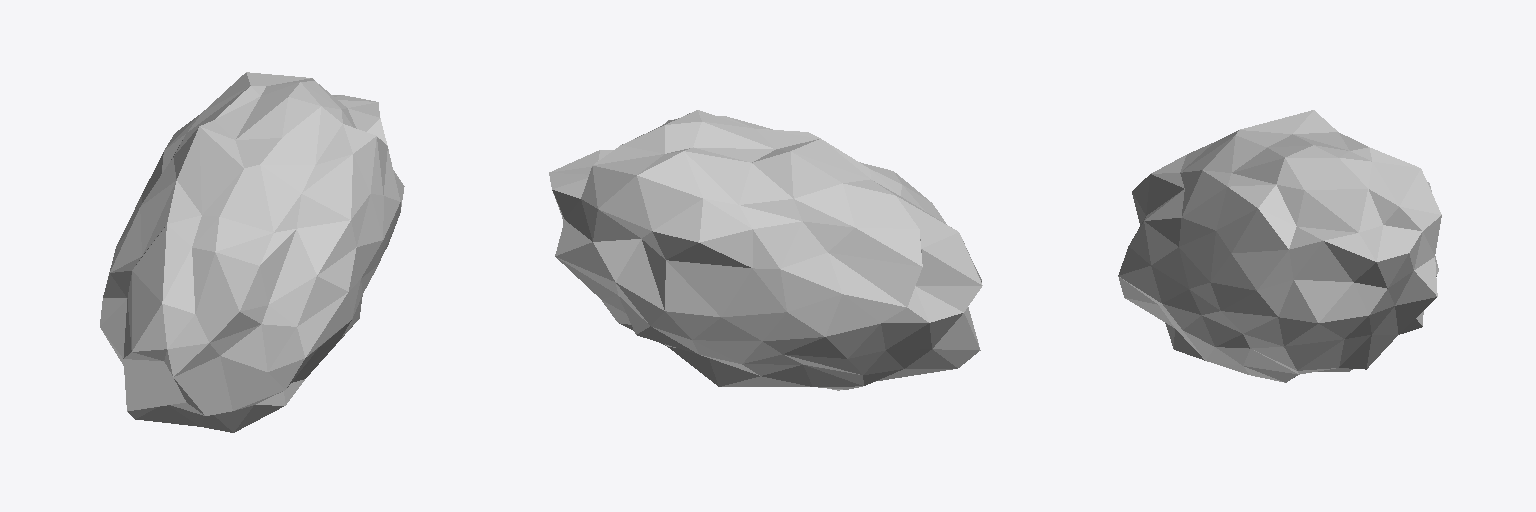
File: lava3.obj
The picture shows the model from 3 angles: view 1: azimuth 30°, elevation 25°; view 2: azimuth 150°, elevation 25°; view 3: azimuth 270°, elevation 25°; orthographic projection.
Visible parts, largest first — view 1: Icosphere_Icosphere.002; view 2: Icosphere_Icosphere.002; view 3: Icosphere_Icosphere.002.
Part boxes in pixels (left/top/right/bottom): Icosphere_Icosphere.002: left=100, top=72, right=404, bottom=432; Icosphere_Icosphere.002: left=549, top=110, right=982, bottom=390; Icosphere_Icosphere.002: left=1118, top=110, right=1441, bottom=382.
Size of the model in its own units: 2.99 by 2.26 by 2.46.